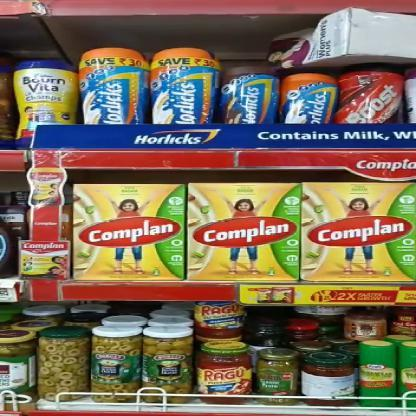Complan Pista Badam: (302, 184, 414, 281), (186, 183, 299, 278), (74, 184, 186, 278)
